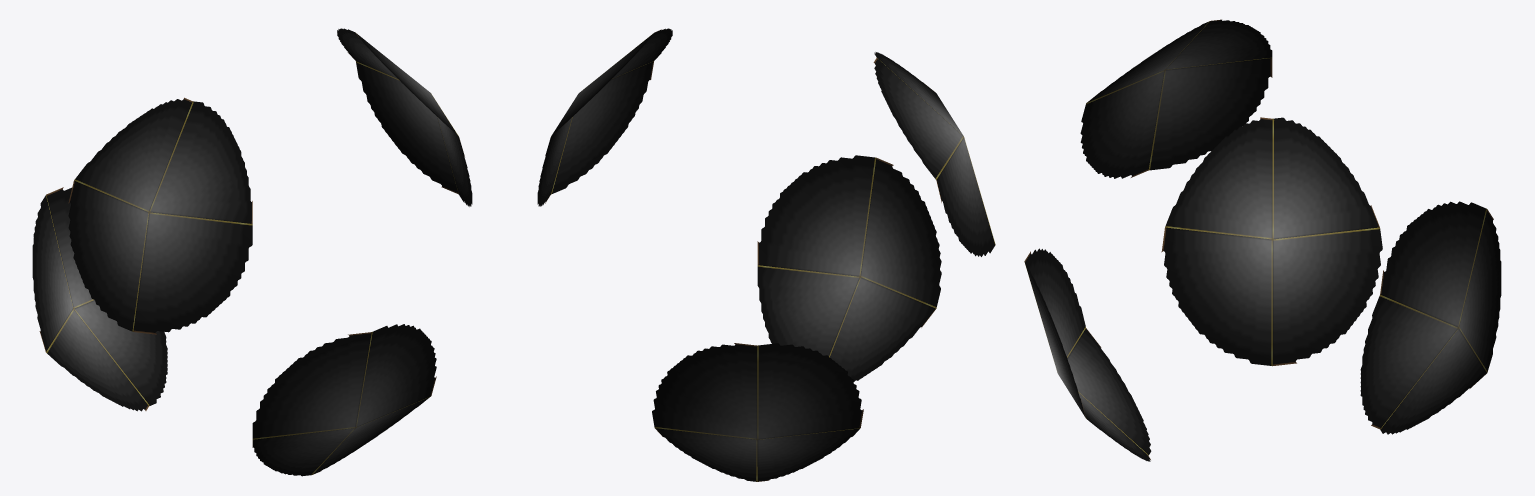
The picture shows the model from 3 angles, left to right: view 1: azimuth 30°, elevation 25°; view 2: azimuth 150°, elevation 25°; view 3: azimuth 270°, elevation 25°; orthographic projection. The views are drawn at different scales.
Visible parts, largest first — view 1: T1L2M009_43; view 2: T1L2M009_43; view 3: T1L2M009_43.
Boxes of the visible parts, x1=… form: T1L2M009_43: x1=32, y1=28, x2=472, y2=476; T1L2M009_43: x1=537, y1=28, x2=995, y2=481; T1L2M009_43: x1=1024, y1=19, x2=1501, y2=461.
Size of the model in its own units: 0.7998 by 0.6924 by 0.7998.
